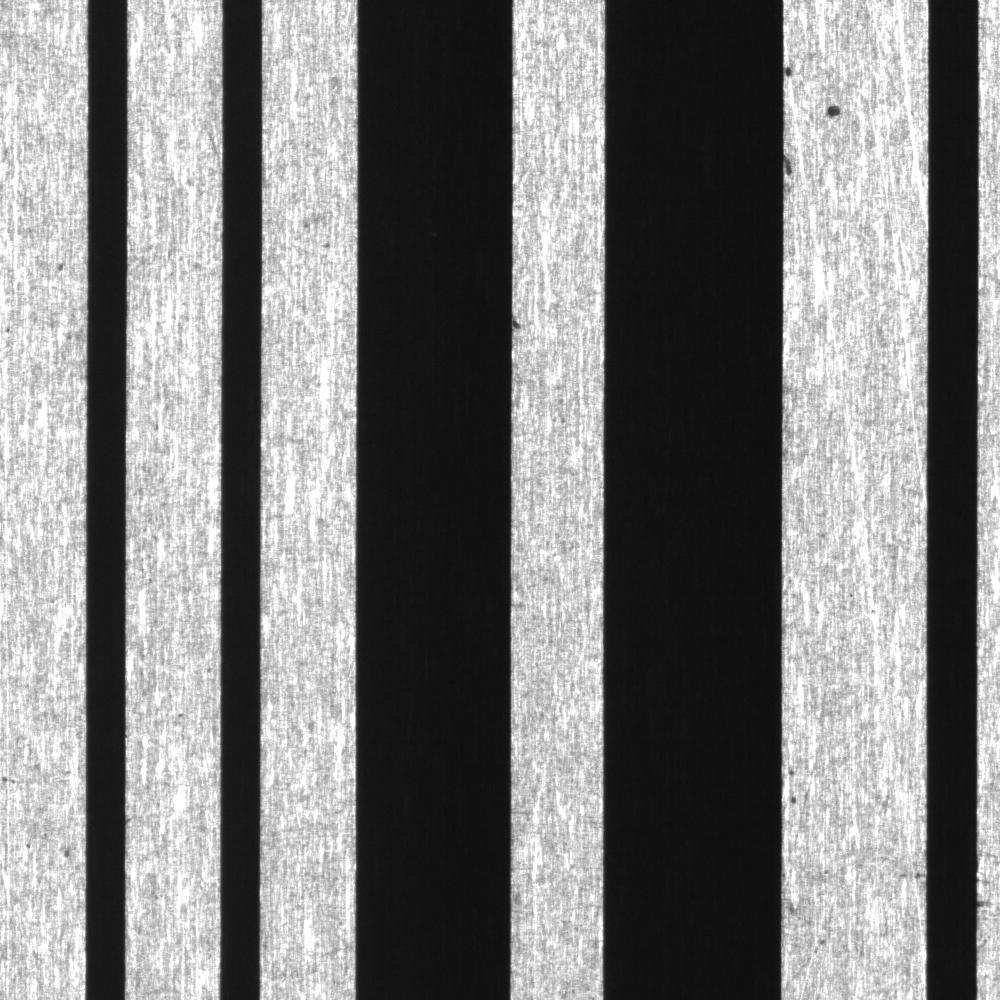Etching: (295, 208, 338, 254), (784, 139, 810, 204), (513, 299, 530, 351), (45, 254, 72, 276), (54, 838, 73, 867)
Pinhole: (785, 757, 816, 821), (821, 83, 851, 132), (781, 50, 803, 88)
